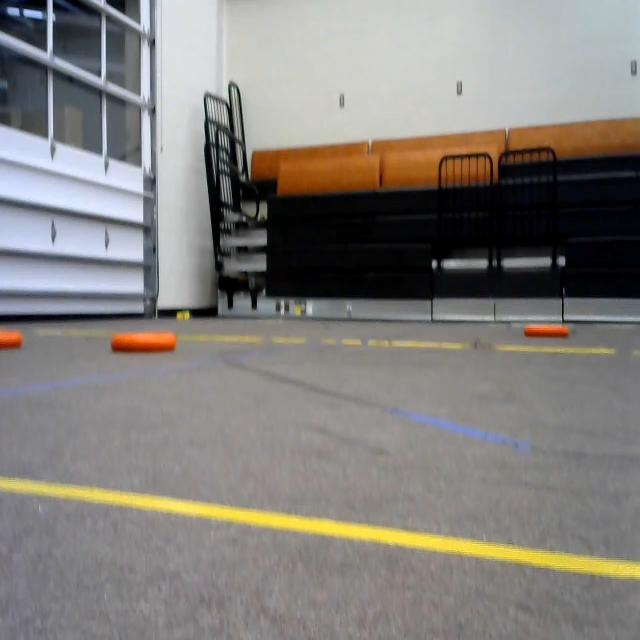note: (106, 328, 194, 361), (519, 317, 575, 349), (0, 323, 30, 353)
